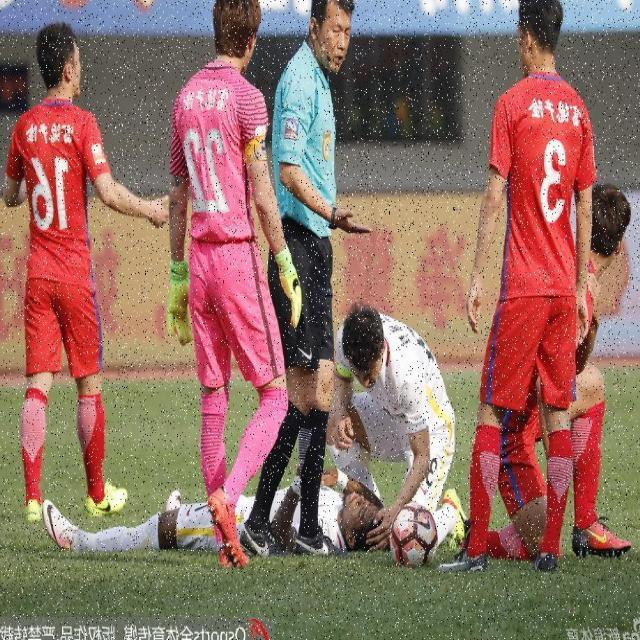fall: (40, 485, 382, 552)
